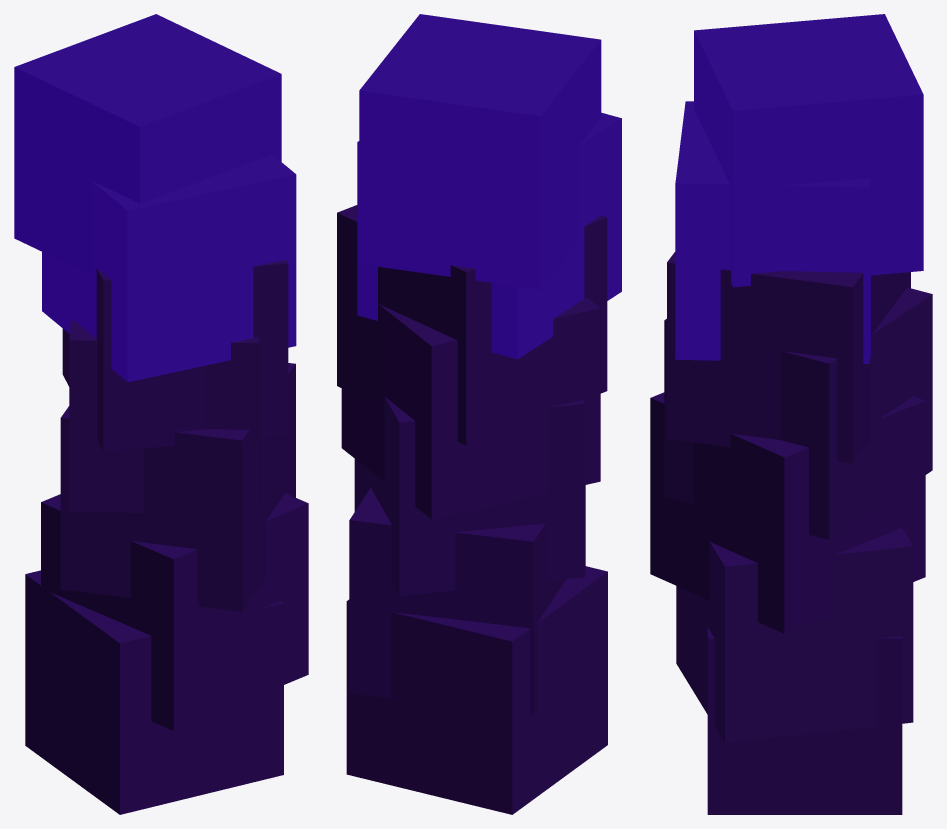
The model's file is building_test.fbx.
3 views of the same model, side by side, from view 1: azimuth 30°, elevation 25°; view 2: azimuth 150°, elevation 25°; view 3: azimuth 270°, elevation 25° (orthographic). The views are drawn at different scales.
Visible parts, largest first — view 1: Cube_7, Cube_6, Cube_0, Cube_1, Cube_3, Cube_5, Cube_4; view 2: Cube_7, Cube_0, Cube_4, Cube_1, Cube_5, Cube_3, Cube_6; view 3: Cube_7, Cube_1, Cube_3, Cube_5, Cube_6, Cube_4, Cube_0.
Part boxes in pixels (left/top/right/bottom): Cube_7: left=14, top=14, right=281, bottom=275; Cube_6: left=42, top=154, right=296, bottom=382; Cube_0: left=25, top=570, right=283, bottom=814; Cube_1: left=41, top=493, right=308, bottom=730; Cube_3: left=60, top=363, right=295, bottom=611; Cube_5: left=62, top=259, right=288, bottom=452; Cube_4: left=69, top=318, right=259, bottom=514; Cube_7: left=359, top=14, right=601, bottom=289; Cube_0: left=346, top=566, right=607, bottom=814; Cube_4: left=341, top=297, right=600, bottom=519; Cube_1: left=349, top=488, right=565, bottom=714; Cube_5: left=337, top=205, right=607, bottom=445; Cube_3: left=354, top=397, right=585, bottom=595; Cube_6: left=357, top=112, right=621, bottom=359; Cube_7: left=694, top=14, right=923, bottom=287; Cube_1: left=676, top=528, right=913, bottom=742; Cube_3: left=650, top=392, right=925, bottom=633; Cube_5: left=667, top=252, right=910, bottom=463; Cube_6: left=675, top=101, right=870, bottom=363; Cube_4: left=664, top=287, right=932, bottom=539; Cube_0: left=707, top=627, right=902, bottom=814.
Bounding box in the file's own units: 1428 × 4008 × 1445.
